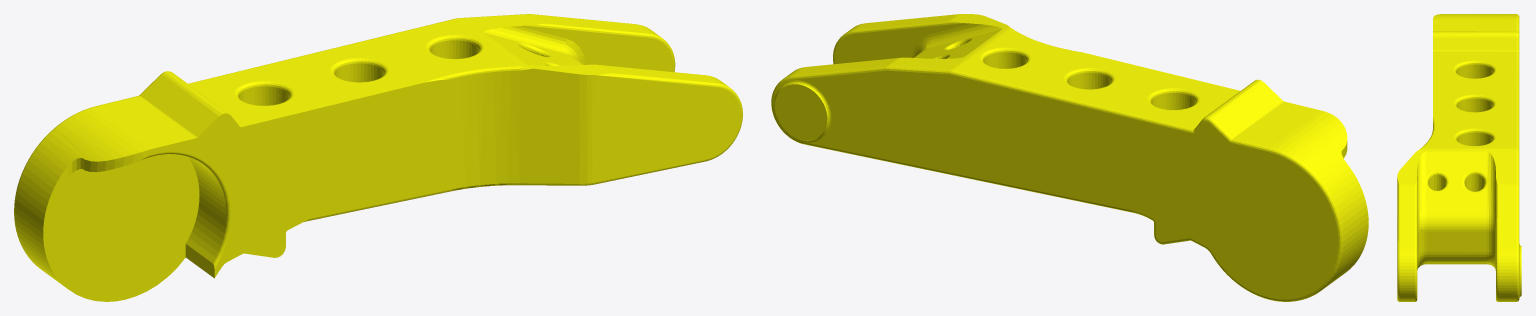
The picture shows the model from 3 angles, left to right: view 1: azimuth 30°, elevation 25°; view 2: azimuth 150°, elevation 25°; view 3: azimuth 270°, elevation 25°; orthographic projection. The views are drawn at different scales.
Parts seen in each view (by area): view 1: node; view 2: node; view 3: node.
Boxes of the visible parts, left/top/right/bottom form: node: left=14, top=14, right=742, bottom=301; node: left=771, top=14, right=1368, bottom=301; node: left=1397, top=14, right=1521, bottom=301.
Size of the model in its own units: 1495 by 419 by 342.
